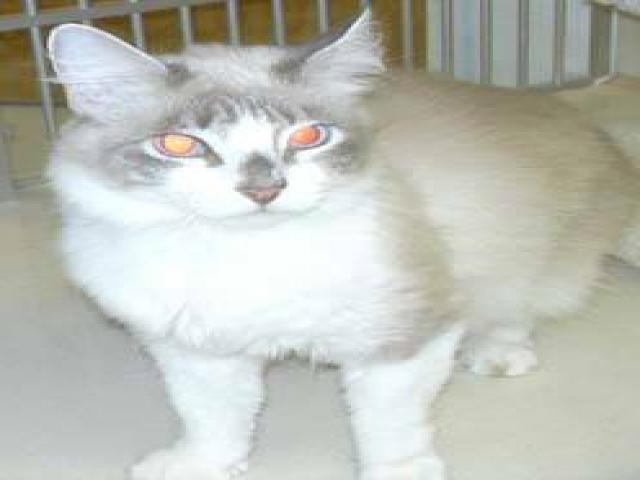cat: (52, 5, 608, 476)
